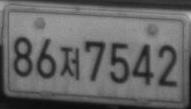2: (157, 43, 178, 86)
4: (131, 43, 154, 86)
5: (109, 42, 130, 83)
6: (36, 38, 57, 79)
7: (84, 40, 106, 81)
8: (13, 35, 33, 77)
저: (59, 46, 80, 80)
